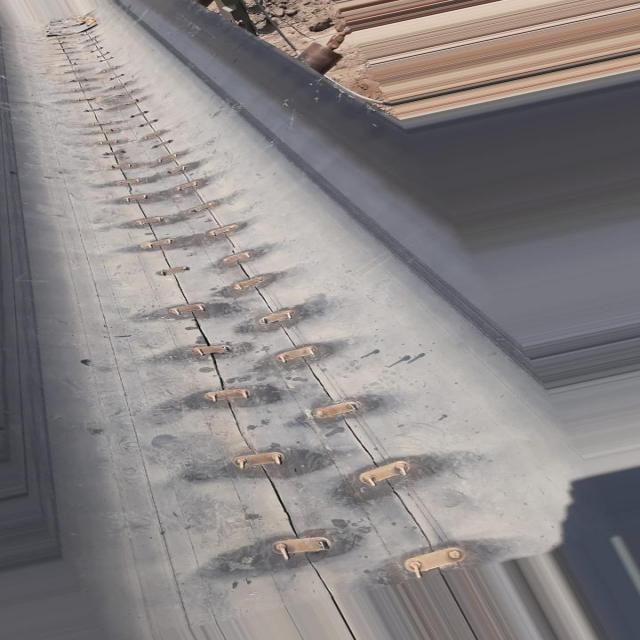Roller: (296, 42, 353, 76)
patch work: (36, 0, 502, 611)
